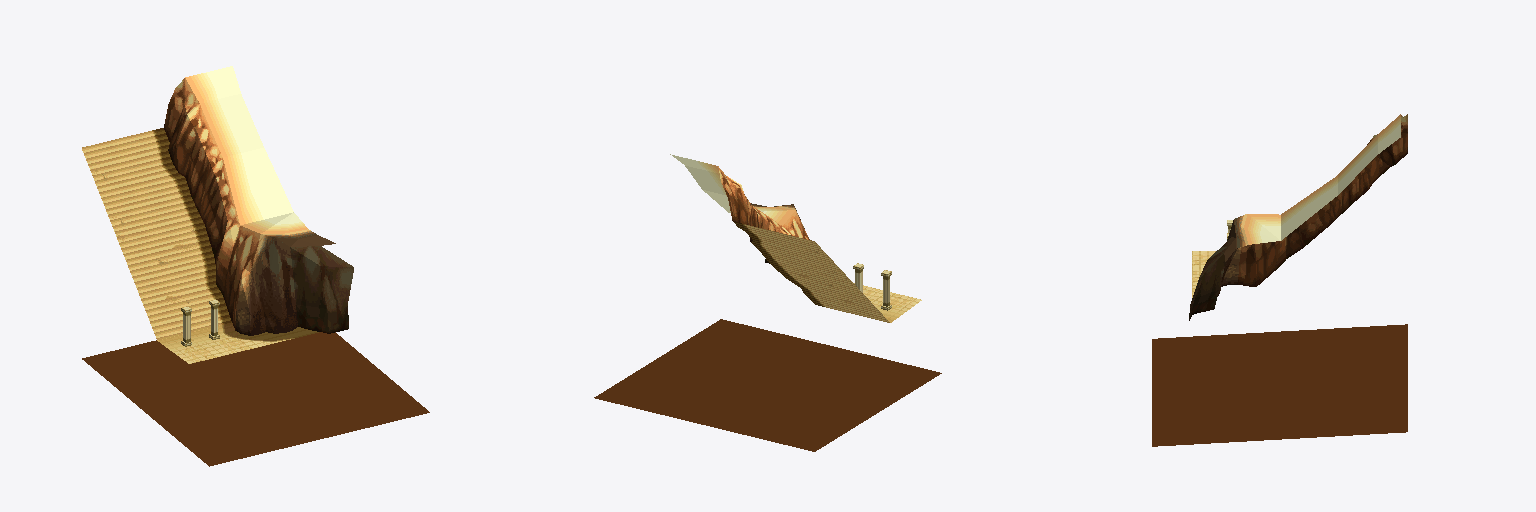
The picture shows the model from 3 angles: view 1: azimuth 30°, elevation 25°; view 2: azimuth 150°, elevation 25°; view 3: azimuth 270°, elevation 25°; orthographic projection.
Visible parts, largest first — view 1: pk_l_iwa6_1_lay0_QUADS_VisGroup0, out32_u_k2_1_lay0_QUADS_VisGroup0, pk_l_iwa7_1_lay0_QUADS_VisGroup0, pk_l_iwa4_1_lay0_TRIS_VisGroup0, pk_l_iwa3_1_lay0_QUADS_VisGroup0, out32_u_k1_1_lay0_QUADS_VisGroup0, pk_l_iwa6_1_lay0_TRIS_VisGroup0, out32_u_kaida_3_lay0_QUADS_VisGroup0, out32_u_k4_1_lay0_TRIS_VisGroup0, out32_u_k2_1_lay0_TRIS_VisGroup0, pk_l_iwa3_1_lay0_TRIS_VisGroup0, pk_l_iwa7_1_lay0_TRIS_VisGroup0 (+1 smaller); view 2: pk_l_iwa6_1_lay0_QUADS_VisGroup0, out32_u_k2_1_lay0_QUADS_VisGroup0, pk_l_iwa7_1_lay0_QUADS_VisGroup0, out32_u_k4_1_lay0_TRIS_VisGroup0, out32_u_k1_1_lay0_QUADS_VisGroup0, out32_u_kaida_3_lay0_QUADS_VisGroup0, out32_u_k2_1_lay0_TRIS_VisGroup0; view 3: pk_l_iwa6_1_lay0_QUADS_VisGroup0, pk_l_iwa7_1_lay0_QUADS_VisGroup0, pk_l_iwa6_1_lay0_TRIS_VisGroup0, pk_l_iwa7_1_lay0_TRIS_VisGroup0, pk_l_iwa4_1_lay0_TRIS_VisGroup0, pk_l_iwa3_1_lay0_QUADS_VisGroup0, pk_l_iwa3_1_lay0_TRIS_VisGroup0.
Part boxes in pixels (left/top/right/bottom): pk_l_iwa6_1_lay0_QUADS_VisGroup0: left=82, top=90, right=429, bottom=466; out32_u_k2_1_lay0_QUADS_VisGroup0: left=82, top=131, right=221, bottom=340; pk_l_iwa7_1_lay0_QUADS_VisGroup0: left=185, top=66, right=293, bottom=224; pk_l_iwa4_1_lay0_TRIS_VisGroup0: left=236, top=234, right=318, bottom=335; pk_l_iwa3_1_lay0_QUADS_VisGroup0: left=290, top=247, right=353, bottom=333; out32_u_k1_1_lay0_QUADS_VisGroup0: left=90, top=166, right=212, bottom=309; pk_l_iwa6_1_lay0_TRIS_VisGroup0: left=168, top=78, right=260, bottom=307; out32_u_kaida_3_lay0_QUADS_VisGroup0: left=152, top=128, right=231, bottom=324; out32_u_k4_1_lay0_TRIS_VisGroup0: left=158, top=325, right=290, bottom=363; out32_u_k2_1_lay0_TRIS_VisGroup0: left=88, top=146, right=189, bottom=339; pk_l_iwa3_1_lay0_TRIS_VisGroup0: left=291, top=246, right=352, bottom=333; pk_l_iwa7_1_lay0_TRIS_VisGroup0: left=240, top=212, right=307, bottom=233; pk_l_iwa6_1_lay0_QUADS_VisGroup0: left=594, top=183, right=941, bottom=451; out32_u_k2_1_lay0_QUADS_VisGroup0: left=745, top=224, right=888, bottom=322; pk_l_iwa7_1_lay0_QUADS_VisGroup0: left=670, top=154, right=730, bottom=212; out32_u_k4_1_lay0_TRIS_VisGroup0: left=854, top=283, right=921, bottom=322; out32_u_k1_1_lay0_QUADS_VisGroup0: left=780, top=247, right=862, bottom=307; out32_u_kaida_3_lay0_QUADS_VisGroup0: left=733, top=221, right=824, bottom=306; out32_u_k2_1_lay0_TRIS_VisGroup0: left=752, top=231, right=889, bottom=322; pk_l_iwa6_1_lay0_QUADS_VisGroup0: left=1152, top=123, right=1407, bottom=446; pk_l_iwa7_1_lay0_QUADS_VisGroup0: left=1281, top=114, right=1400, bottom=240; pk_l_iwa6_1_lay0_TRIS_VisGroup0: left=1239, top=115, right=1406, bottom=264; pk_l_iwa7_1_lay0_TRIS_VisGroup0: left=1244, top=214, right=1280, bottom=244; pk_l_iwa4_1_lay0_TRIS_VisGroup0: left=1218, top=214, right=1246, bottom=295; pk_l_iwa3_1_lay0_QUADS_VisGroup0: left=1189, top=254, right=1225, bottom=319; pk_l_iwa3_1_lay0_TRIS_VisGroup0: left=1189, top=237, right=1231, bottom=320.
Bounding box in the file's own units: 512 × 605 × 512.
Materials: 11 (11 with a texture image).